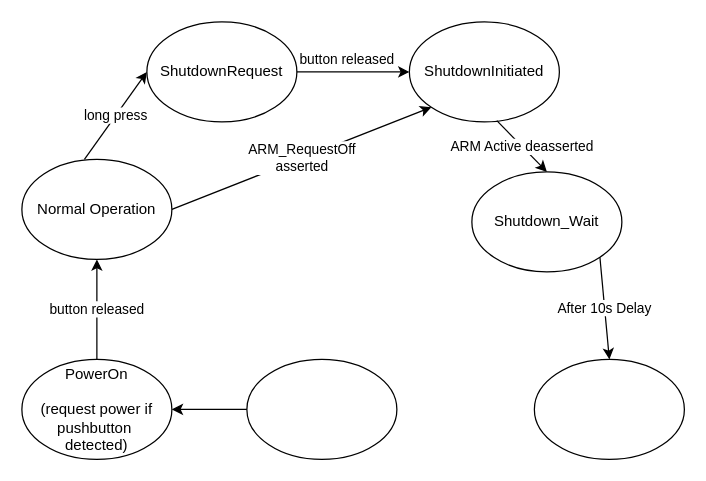
Image size: 706x481. Some labels were removed from this diagram. The shapes that lost their labels are listed below. From the top down, each one's centre as x and y in pixels, then its label:
At pixel 321 408: "PowerWaitStart (power not requested)".
At pixel 608 408: "Shutdown".
